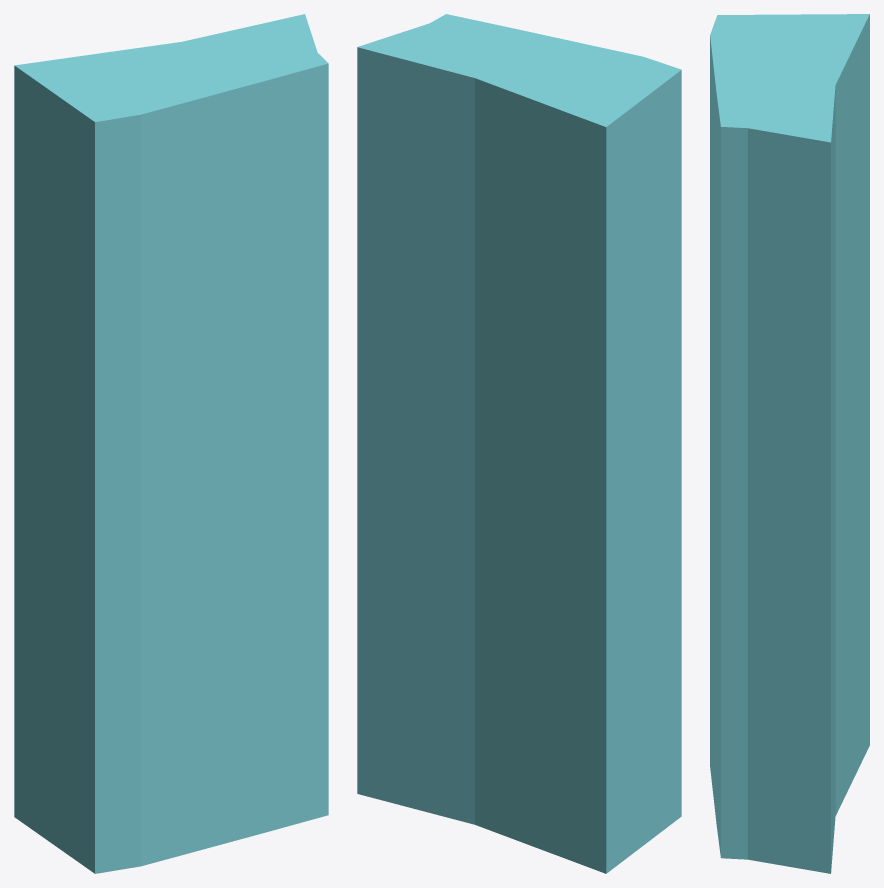
The model's file is allenhurst.glb.
3 renders of one model, left to right at view 1: azimuth 30°, elevation 25°; view 2: azimuth 150°, elevation 25°; view 3: azimuth 270°, elevation 25°, orthographic. The views are drawn at different scales.
Parts seen in each view (by area): view 1: Plane.004; view 2: Plane.004; view 3: Plane.004.
Boxes of the visible parts, x1,y1,x2,y2 form: Plane.004: [14, 14, 328, 873]; Plane.004: [357, 14, 681, 873]; Plane.004: [710, 14, 869, 873].
Size of the model in its own units: 0.1453 by 0.3856 by 0.0764.
